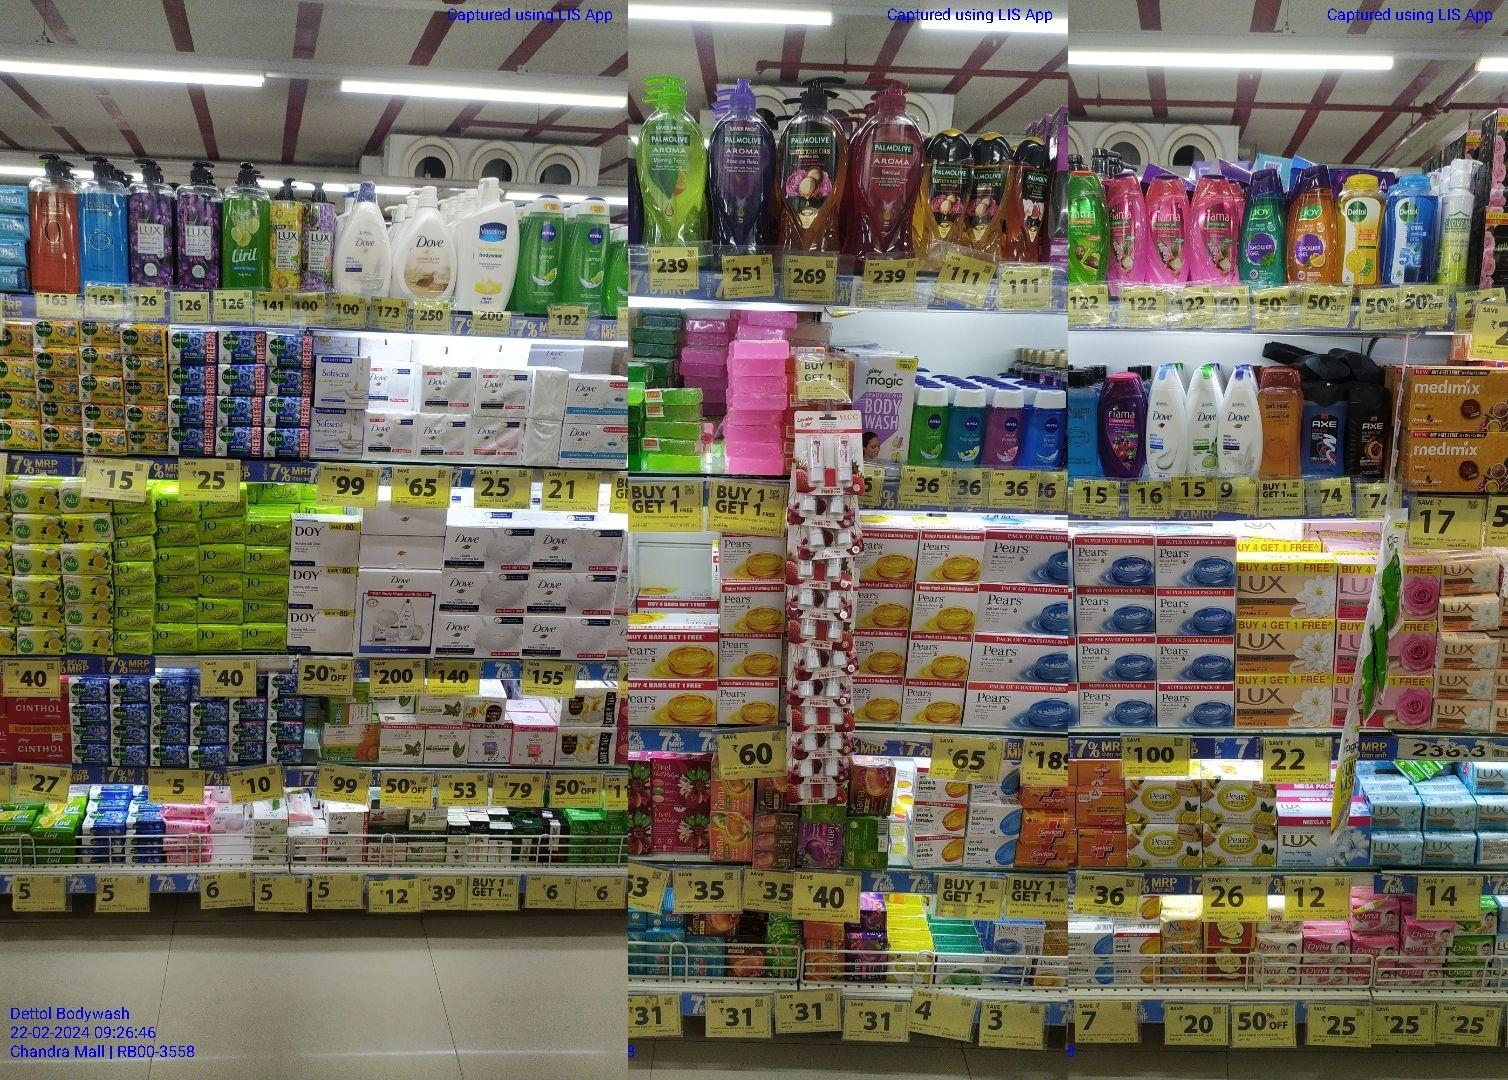Dettol_Bodywash_Cool: (1391, 176, 1439, 281)
Dettol_Bodywash_Refresh: (1338, 174, 1382, 286)
Dove_Deep_Moisture_Body_Wash_250ML: (1222, 368, 1263, 476)
Dove_Gentle_Exfoliating_Body_Wash_250ML: (1147, 368, 1187, 476)
Dove_Refreshing_Body_Wash_250ML: (1185, 367, 1219, 477)
Fiama_Shower_Gel_Lemongrass_and_Jojoba_250ML: (1068, 171, 1111, 282)
Fiama_Shower_Gel_Patchouli_and_Macadamia_250ML: (1149, 175, 1191, 284), (1194, 174, 1236, 283), (1112, 172, 1147, 283)
Get_Real_Shower_Gel_Moisturising_Glycerin_300ML: (1263, 368, 1302, 476)
Joy_Shower_Gel_Mandarin_and_Lemongrass_250ML: (1287, 165, 1336, 283)
Joy_Shower_Gel_Mint_and_Eucalyptus_250ML: (1241, 167, 1284, 283)
Nivea_Shower_Gel_Lemon_and_Oil_250ML: (520, 194, 566, 316), (569, 196, 610, 313)
